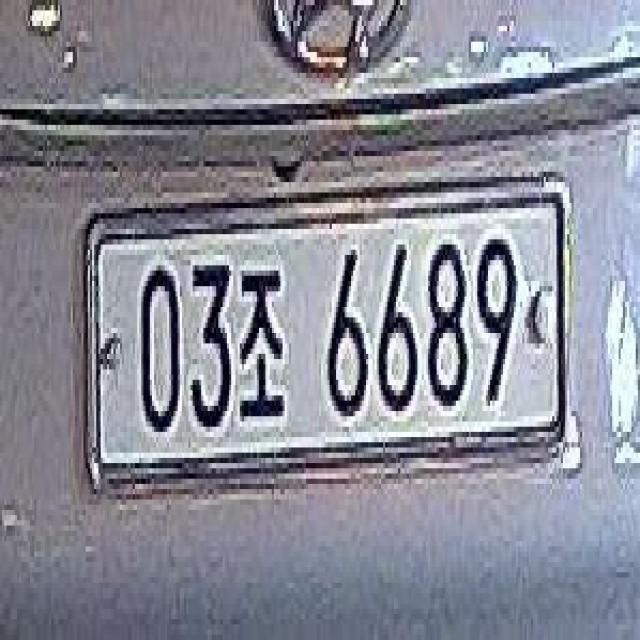illegal_plate: (89, 182, 571, 482)
